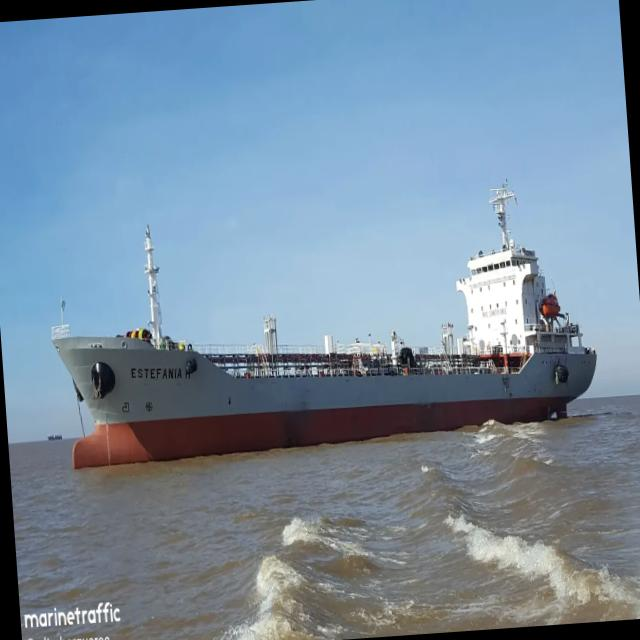Tanker: (51, 187, 597, 468)
